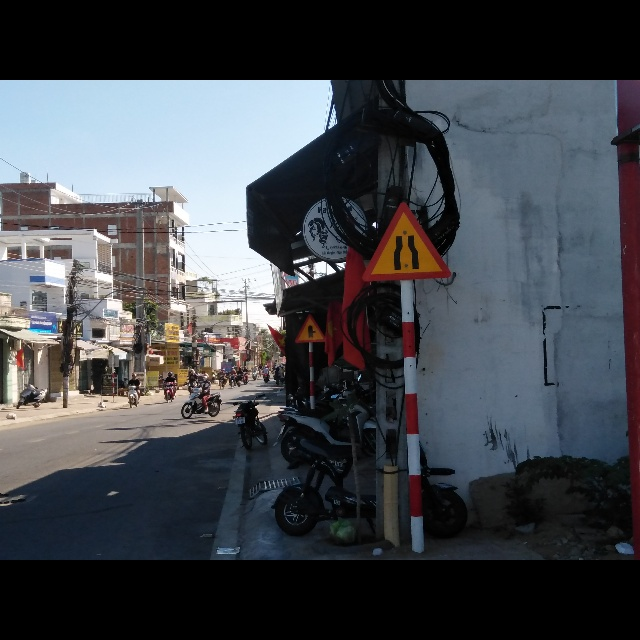Giao nhau với đường không ưu tiên: (293, 314, 328, 346)
Đường bị hẹp cả hai bên: (362, 201, 456, 284)
